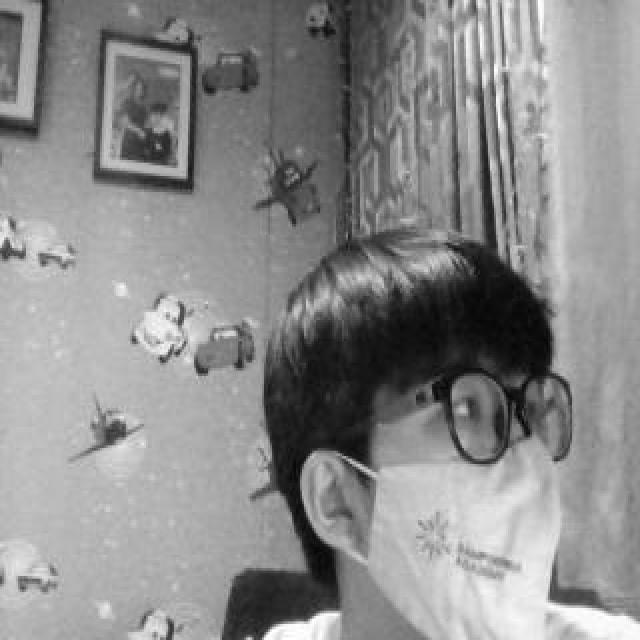Focused: (370, 330, 572, 638)
